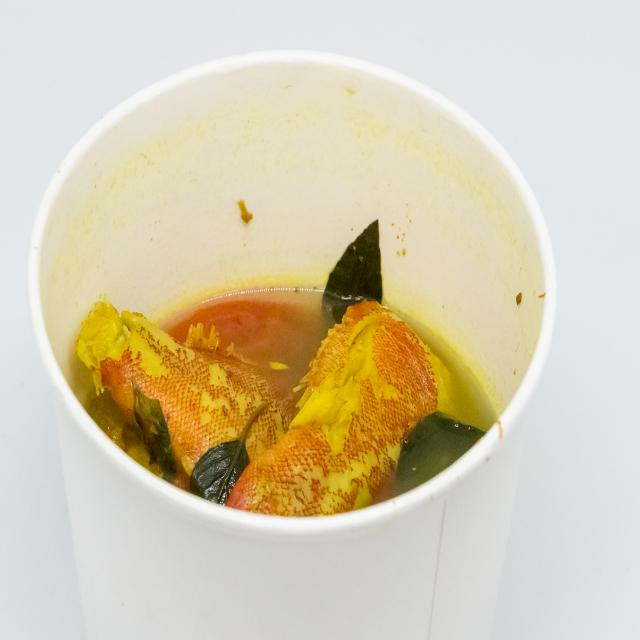Gulai-Ikan-Mas: (38, 253, 568, 528)
